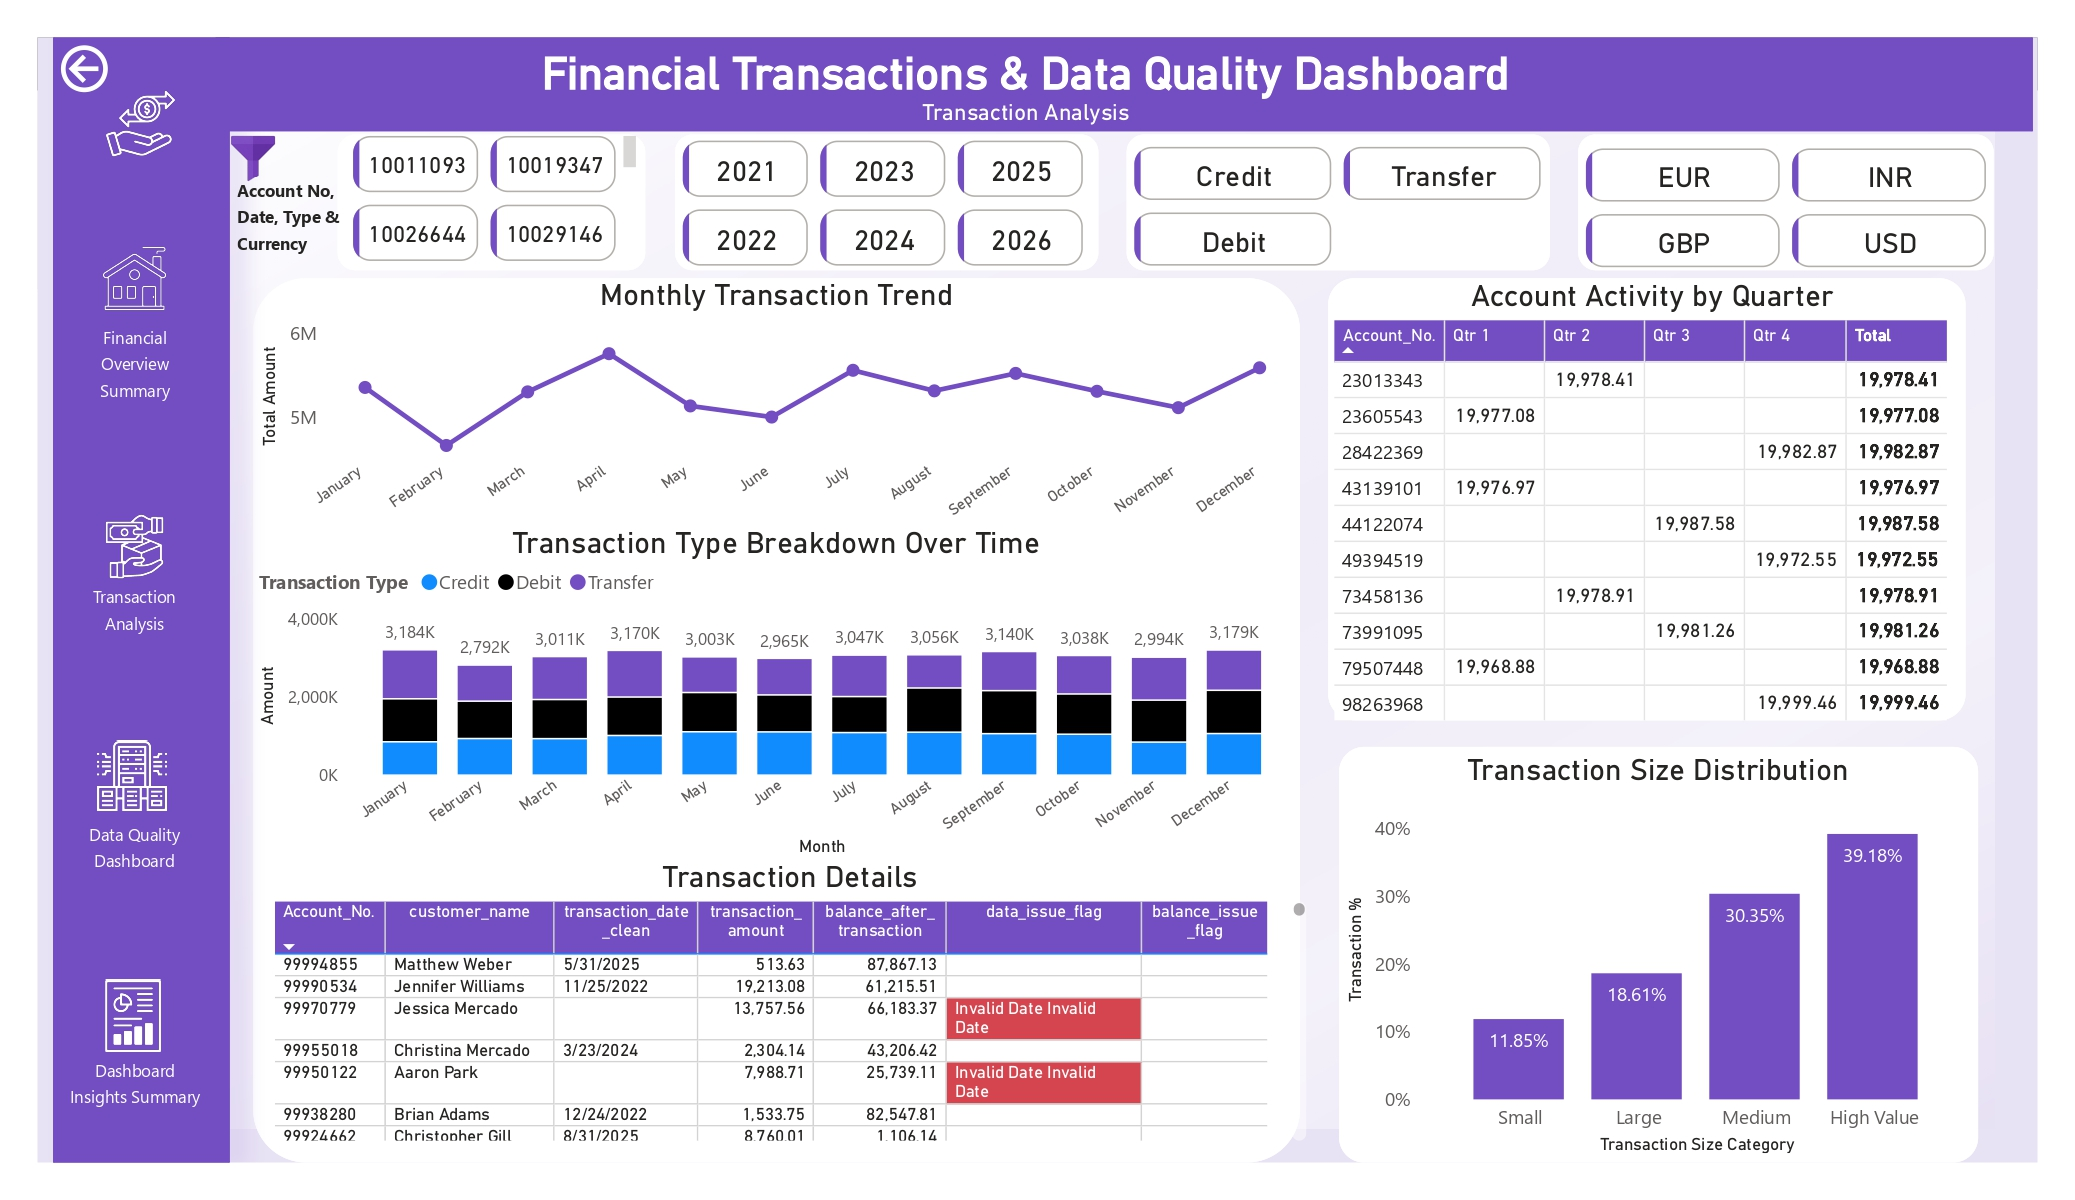

The dashboard page shown, as its layout file describes it:
{"tool":"powerbi","page":{"name":"Transaction Analysis","canvas":[1280,720],"ordinal":1},"visuals":[{"type":"shape","box":[407.2,61.9,271.4,87.2],"z":0,"group":"g7"},{"type":"shape","box":[825.7,154.3,408.6,282.9],"z":0},{"type":"shape","box":[832.7,453.6,409.1,266.4],"z":1000},{"type":"shape","box":[138.2,153.6,670,566.4],"z":2000},{"type":"shape","title":"FINANCE","box":[9.7,0,112.8,719.8],"z":3000},{"type":"image","box":[35.4,115.4,53.9,77.1],"z":3000,"group":"g12"},{"type":"image","box":[38.9,28.2,54.5,54.5],"z":4000,"group":"g3"},{"type":"lineChart","title":"Monthly Transaction Trend","fields":{"Y":["Table.Total Revenue/Amount"],"Category":["Cleaned_Finance_Data.transaction_date_clean.Variation.Date Hierarchy.Month"]},"box":[138.2,152.9,670.1,159],"z":4000},{"type":"image","box":[34.1,445.9,55.1,55.1],"z":4000,"group":"g11"},{"type":"image","box":[34.9,299.3,54.5,54.5],"z":5000,"group":"g10"},{"type":"columnChart","title":"Transaction Type Breakdown Over Time","fields":{"Y":["Sum(Cleaned_Finance_Data.transaction_amount)"],"Series":["Cleaned_Finance_Data.transaction_type"],"Category":["Cleaned_Finance_Data.transaction_date_clean.Variation.Date Hierarchy.Month"]},"box":[137.3,311.8,670.9,216.4],"z":5000},{"type":"actionButton","box":[10.2,0,100,39.8],"z":6000},{"type":"shape","box":[114.4,0,1163.3,60],"z":6000,"group":"g4"},{"type":"textbox","box":[15.1,177.3,94.9,65],"z":6000,"group":"g12"},{"type":"textbox","box":[15.4,646.5,94.9,65],"z":6000,"group":"g1"},{"type":"textbox","box":[128.3,1.1,1008.7,65.6],"z":7000,"group":"g4"},{"type":"tableEx","title":"Transaction Details","fields":{"Values":["Cleaned_Finance_Data.account_number","Cleaned_Finance_Data.customer_name","Cleaned_Finance_Data.transaction_date_clean","Cleaned_Finance_Data.transaction_amount","Cleaned_Finance_Data.balance_after_transaction","Cleaned_Finance_Data.data_issue_flag","Cleaned_Finance_Data.balance_issue_flag"]},"box":[146,525.7,670.7,185.4],"z":7000},{"type":"group","id":"g1","title":"Group 9","box":[15.4,646.5,94.9,65],"z":7000,"group":"g13"},{"type":"pivotTable","title":"Account Activity by Quarter","fields":{"Rows":["Cleaned_Finance_Data.account_number"],"Values":["Sum(Cleaned_Finance_Data.transaction_amount)"],"Columns":["Cleaned_Finance_Data.transaction_date.Variation.Date Hierarchy.Quarter"]},"box":[825.5,153.6,416.4,300],"z":8000},{"type":"clusteredColumnChart","title":"Transaction Size Distribution","fields":{"Category":["Cleaned_Finance_Data.Transaction Size Category"],"Y":["Cleaned_Finance_Data.Transaction %"]},"box":[832.9,457.1,408.6,261.4],"z":9000},{"type":"group","id":"g2","title":"Group 6","box":[191.6,57,1061.2,95.7],"z":10000},{"type":"textbox","box":[14.4,343,95.9,45.9],"z":10000,"group":"g10"},{"type":"textbox","box":[122.6,82.7,91.4,71],"z":11000},{"type":"textbox","box":[14.7,495.9,95.9,45.9],"z":11000,"group":"g11"},{"type":"image","box":[115.7,49.6,44.7,53.5],"z":12000},{"type":"group","id":"g3","title":"Group 5","box":[38.9,28.2,54.5,54.5],"z":13000},{"type":"group","id":"g4","title":"Group 4","box":[114.4,0,1163.3,66.7],"z":14000},{"type":"group","id":"g5","title":"Group 6","box":[14.4,115.4,96.2,596.2],"z":15000},{"type":"image","box":[28.2,598.7,65.4,56.4],"z":15009,"group":"g13"},{"type":"group","id":"g6","title":"Group 1","box":[191.6,57,197.1,92.2],"z":17000,"group":"g2"},{"type":"group","id":"g7","title":"Group 2","box":[407.2,60.1,271.4,90.8],"z":18000,"group":"g2"},{"type":"advancedSlicerVisual","fields":{"Values":["Cleaned_Finance_Data.transaction_date_clean.Variation.Date Hierarchy.Year"]},"box":[407.2,60.1,268,90.8],"z":18000,"group":"g7"},{"type":"shape","box":[697.1,61.9,270.7,87.2],"z":18500,"group":"g8"},{"type":"shape","box":[985.3,61.9,266.3,87.2],"z":18750,"group":"g9"},{"type":"group","id":"g8","title":"Group 3","box":[697.1,61.9,270.7,89],"z":19000,"group":"g2"},{"type":"advancedSlicerVisual","title":"Currency","fields":{"Values":["Cleaned_Finance_Data.currency"]},"box":[985.6,64.5,267.1,88.1],"z":19000,"group":"g9"},{"type":"shape","box":[191.6,61.9,197.1,87.2],"z":20000,"group":"g6"},{"type":"group","id":"g9","title":"Group 4","box":[985.3,61.9,267.4,90.7],"z":21000,"group":"g2"},{"type":"advancedSlicerVisual","title":"Transaction Type","fields":{"Values":["Cleaned_Finance_Data.transaction_type"]},"box":[697.1,63.7,270.5,87.2],"z":21000,"group":"g8"},{"type":"advancedSlicerVisual","title":"Account Number","fields":{"Values":["Cleaned_Finance_Data.account_number"]},"box":[196.8,57,190.6,91.4],"z":22000,"group":"g6"},{"type":"group","id":"g10","title":"Group 7","box":[14.4,299.3,95.9,89.6],"z":24000,"group":"g5"},{"type":"group","id":"g11","title":"Group 8","box":[14.7,445.9,95.9,95.9],"z":25000,"group":"g5"},{"type":"group","id":"g12","title":"Group 9","box":[15.1,115.4,94.9,126.9],"z":26000,"group":"g5"},{"type":"group","id":"g13","title":"Group 1","box":[15.4,598.7,94.9,112.8],"z":27000,"group":"g5"}]}

Visuals, with their boxes on the page's 1280x720 design canvas (x1, y1, x2, y2). These are canvas units, not pixel positions in the 2075x1200 screenshot, which may show the page scaled, cropped or inside an application window:
shape: select_region(407, 62, 679, 149)
shape: select_region(826, 154, 1234, 437)
shape: select_region(833, 454, 1242, 720)
shape: select_region(138, 154, 808, 720)
"FINANCE" shape: select_region(10, 0, 122, 720)
image: select_region(35, 115, 89, 192)
image: select_region(39, 28, 93, 83)
"Monthly Transaction Trend" lineChart: select_region(138, 153, 808, 312)
image: select_region(34, 446, 89, 501)
image: select_region(35, 299, 89, 354)
"Transaction Type Breakdown Over Time" columnChart: select_region(137, 312, 808, 528)
actionButton: select_region(10, 0, 110, 40)
shape: select_region(114, 0, 1278, 60)
textbox: select_region(15, 177, 110, 242)
textbox: select_region(15, 646, 110, 712)
textbox: select_region(128, 1, 1137, 67)
"Transaction Details" tableEx: select_region(146, 526, 817, 711)
"Group 9" group: select_region(15, 646, 110, 712)
"Account Activity by Quarter" pivotTable: select_region(826, 154, 1242, 454)
"Transaction Size Distribution" clusteredColumnChart: select_region(833, 457, 1242, 718)
"Group 6" group: select_region(192, 57, 1253, 153)
textbox: select_region(14, 343, 110, 389)
textbox: select_region(123, 83, 214, 154)
textbox: select_region(15, 496, 111, 542)
image: select_region(116, 50, 160, 103)
"Group 5" group: select_region(39, 28, 93, 83)
"Group 4" group: select_region(114, 0, 1278, 67)
"Group 6" group: select_region(14, 115, 111, 712)
image: select_region(28, 599, 94, 655)
"Group 1" group: select_region(192, 57, 389, 149)
"Group 2" group: select_region(407, 60, 679, 151)
advancedSlicerVisual - Cleaned_Finance_Data.transaction_date_clean.Variation.Date Hierarchy.Year: select_region(407, 60, 675, 151)
shape: select_region(697, 62, 968, 149)
shape: select_region(985, 62, 1252, 149)
"Group 3" group: select_region(697, 62, 968, 151)
"Currency" advancedSlicerVisual: select_region(986, 64, 1253, 153)
shape: select_region(192, 62, 389, 149)
"Group 4" group: select_region(985, 62, 1253, 153)
"Transaction Type" advancedSlicerVisual: select_region(697, 64, 968, 151)
"Account Number" advancedSlicerVisual: select_region(197, 57, 387, 148)
"Group 7" group: select_region(14, 299, 110, 389)
"Group 8" group: select_region(15, 446, 111, 542)
"Group 9" group: select_region(15, 115, 110, 242)
"Group 1" group: select_region(15, 599, 110, 712)
